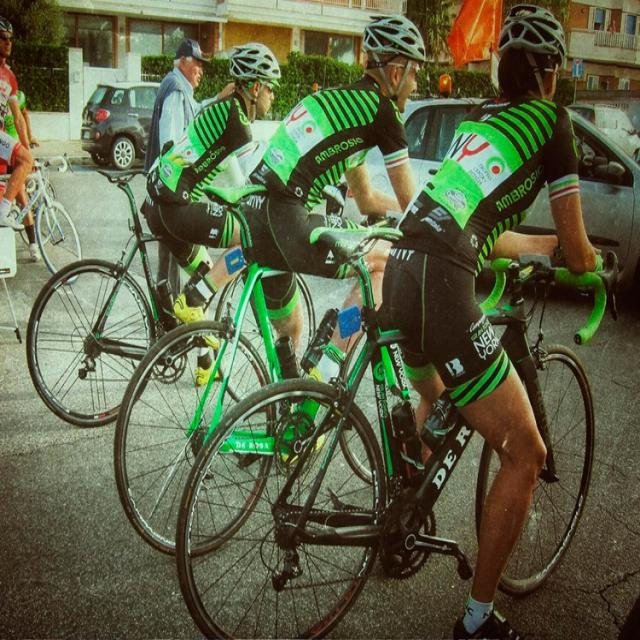body: (376, 0, 630, 639), (235, 9, 429, 472), (138, 38, 284, 392), (143, 37, 235, 340), (14, 176, 40, 263)
